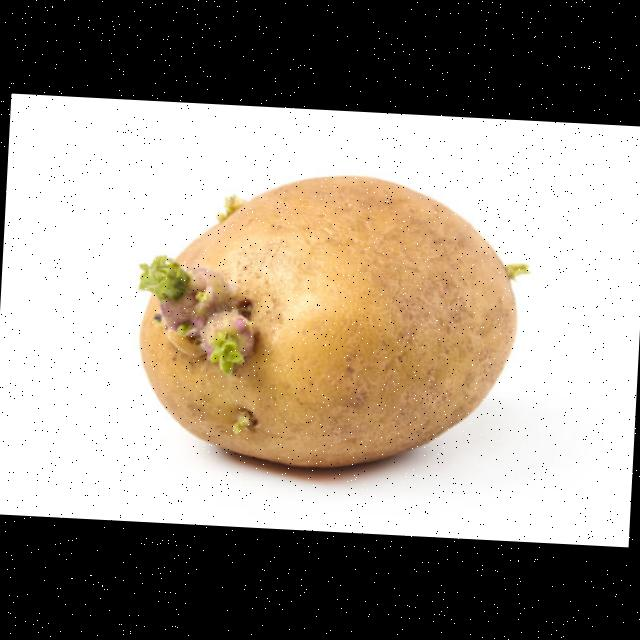Sprouted potato: (112, 153, 540, 492)
